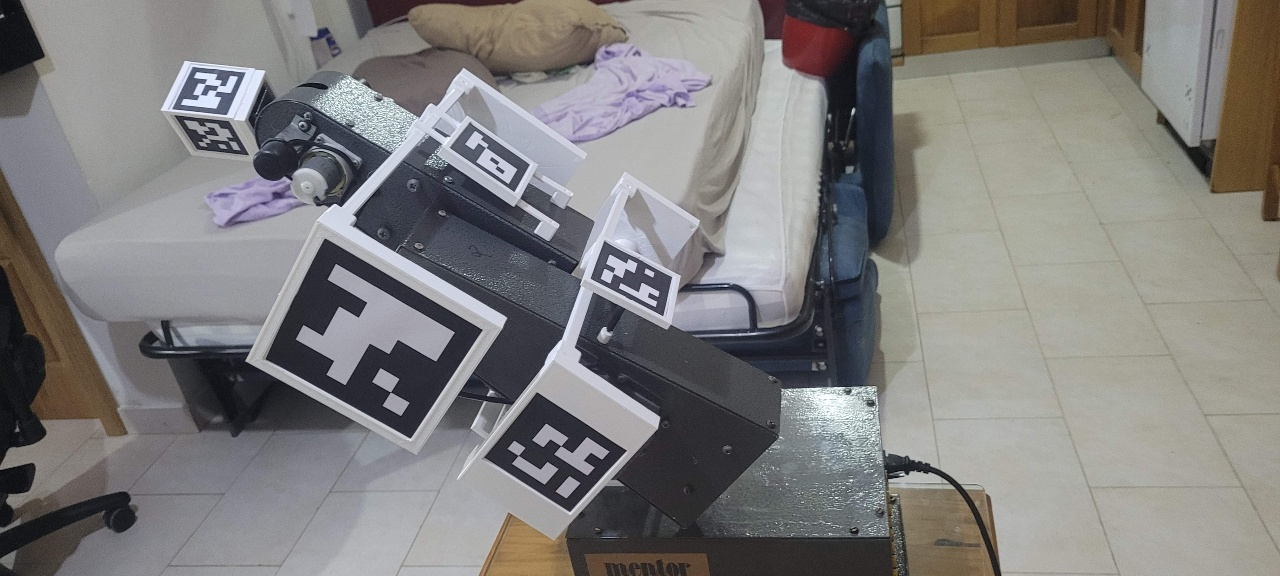Robot: (200, 3, 924, 568)
